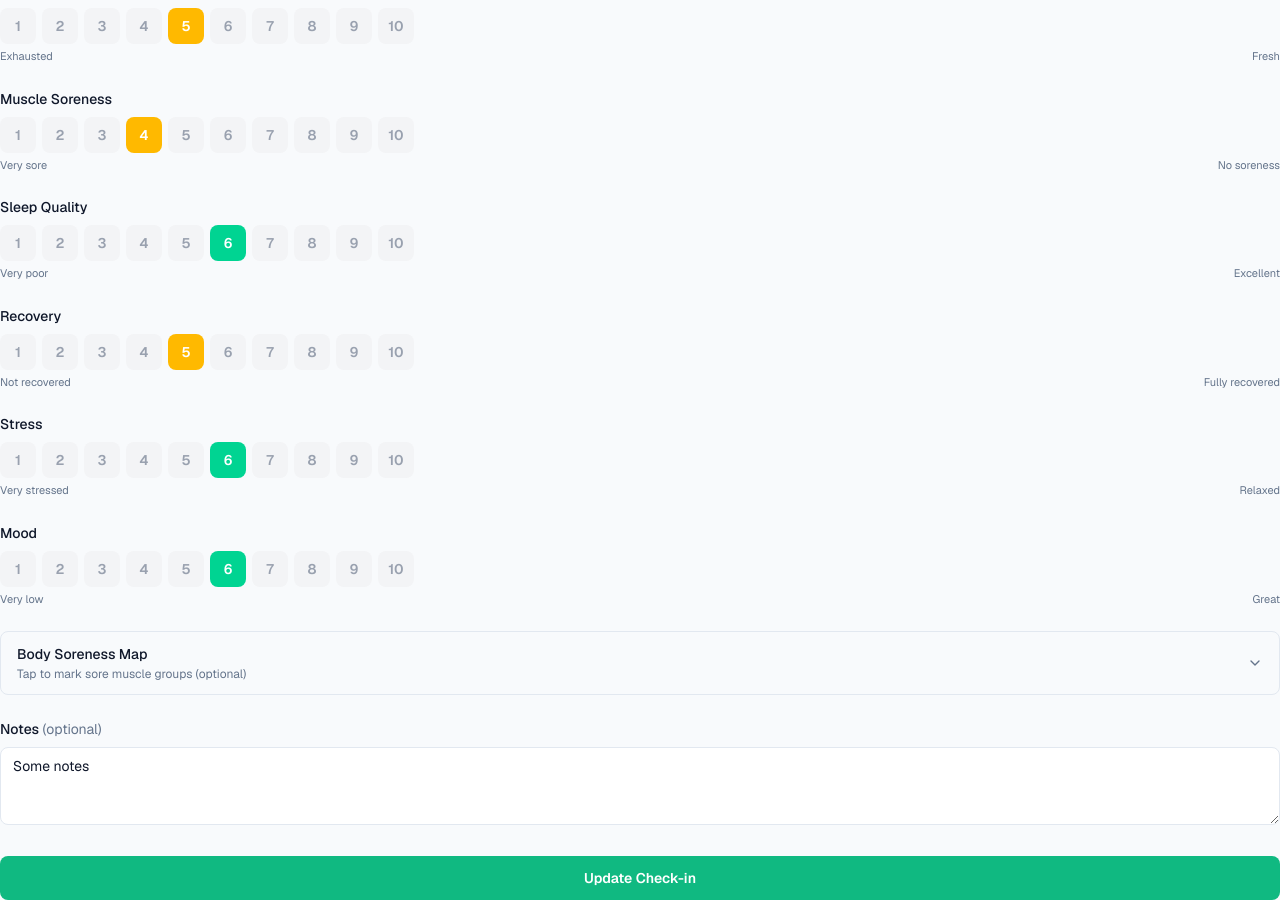
WellnessForm edit mode › sends PUT request with entryId in edit mode
(page scrolled)
Click the button "Update Check-in" at coordinates (640, 878), box [0,856,1279,899]
(page scrolled)
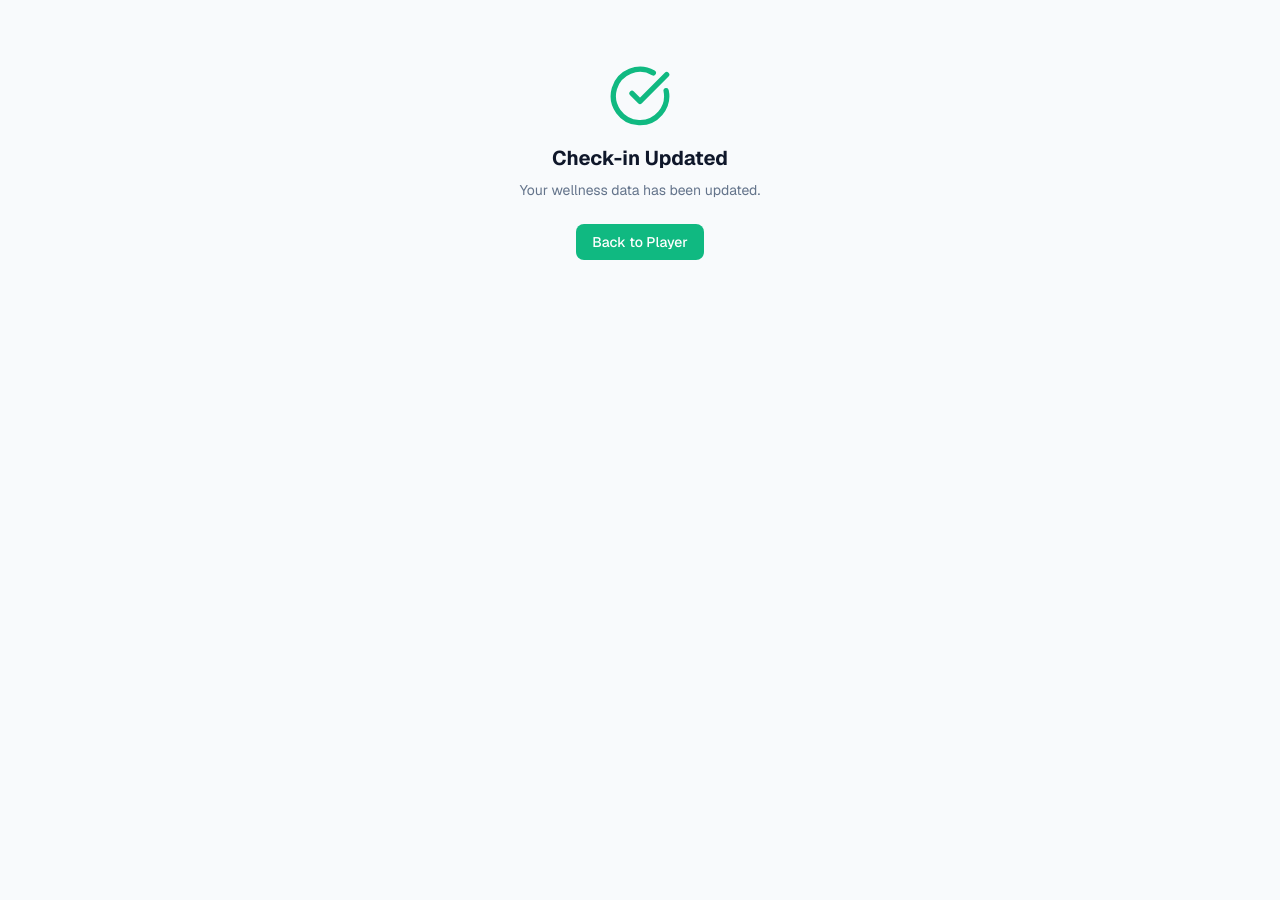
Now the heading "Check-in Updated" is shown, box [552,144,728,172]
